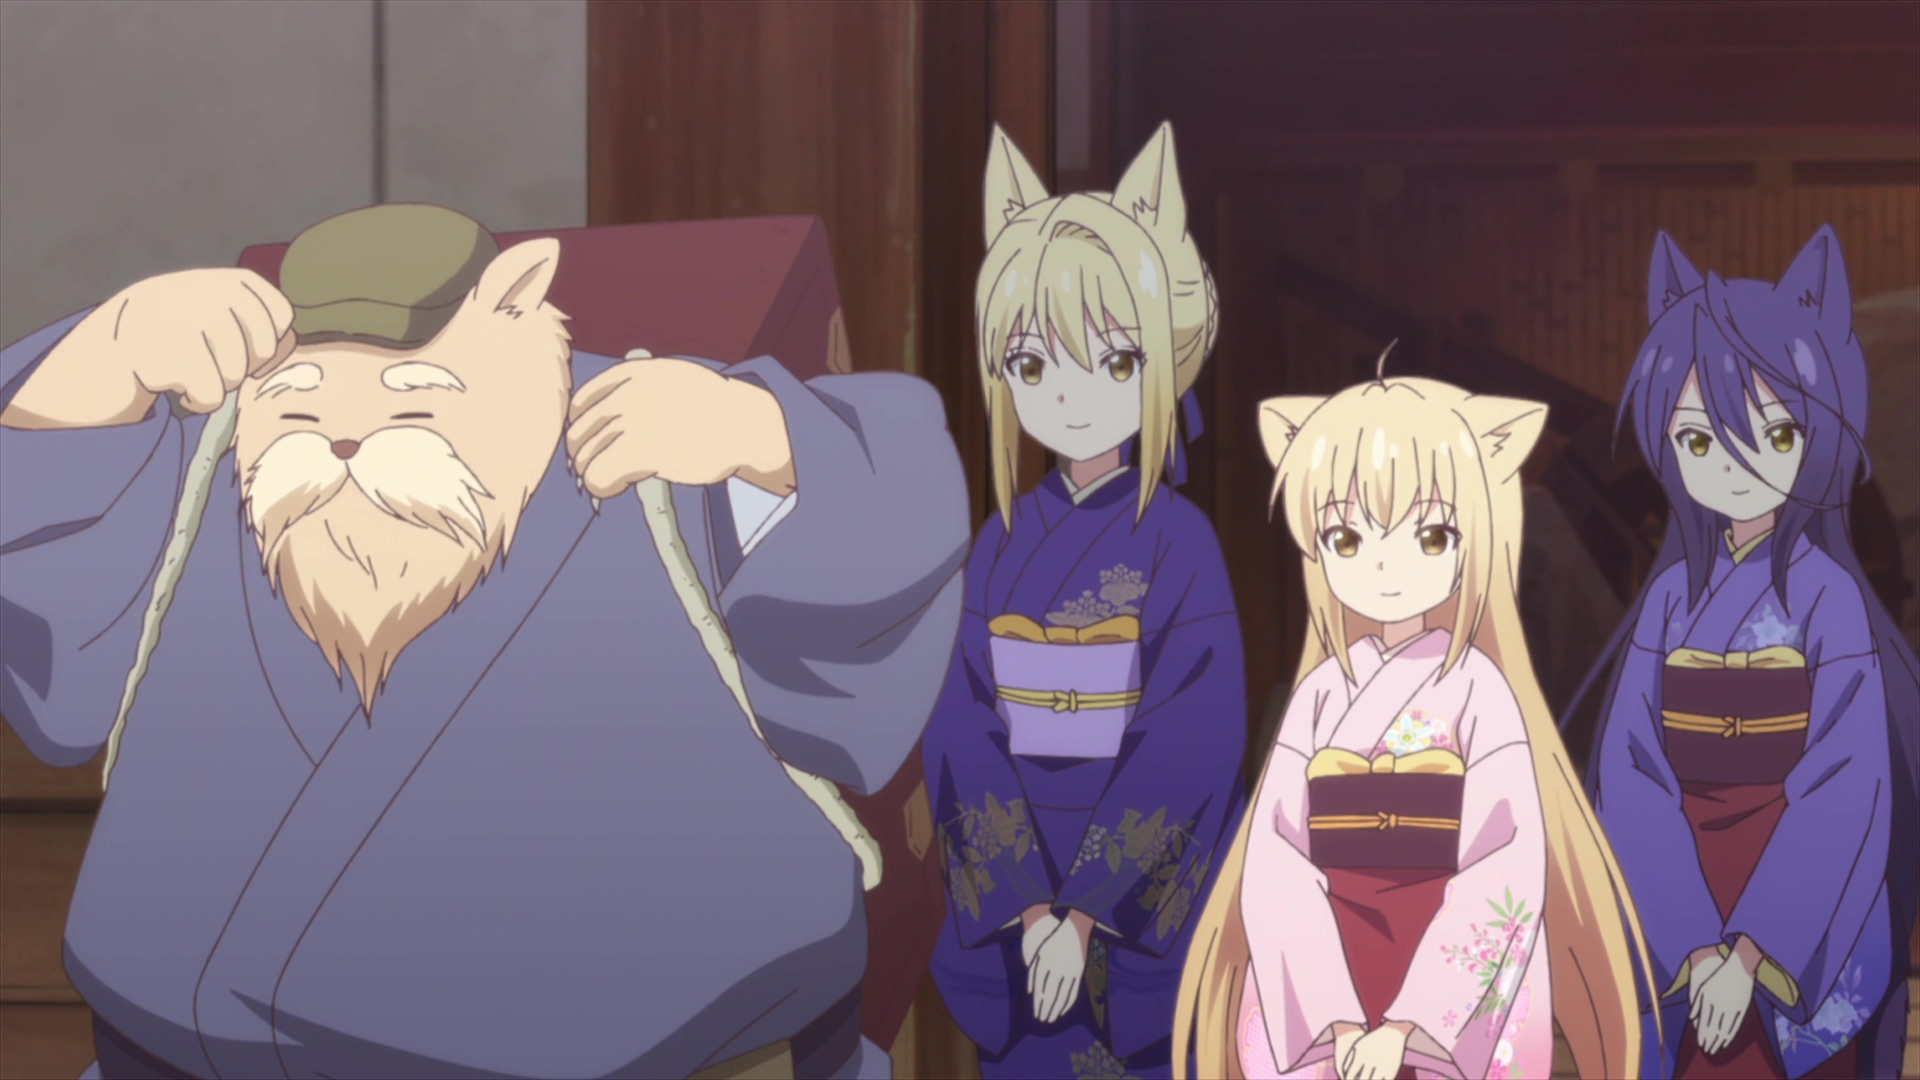柚: (1168, 338, 1664, 1080)
桐: (920, 123, 1249, 1080)
皋: (1563, 231, 1920, 1080)
药店老板: (1, 202, 971, 1080)
